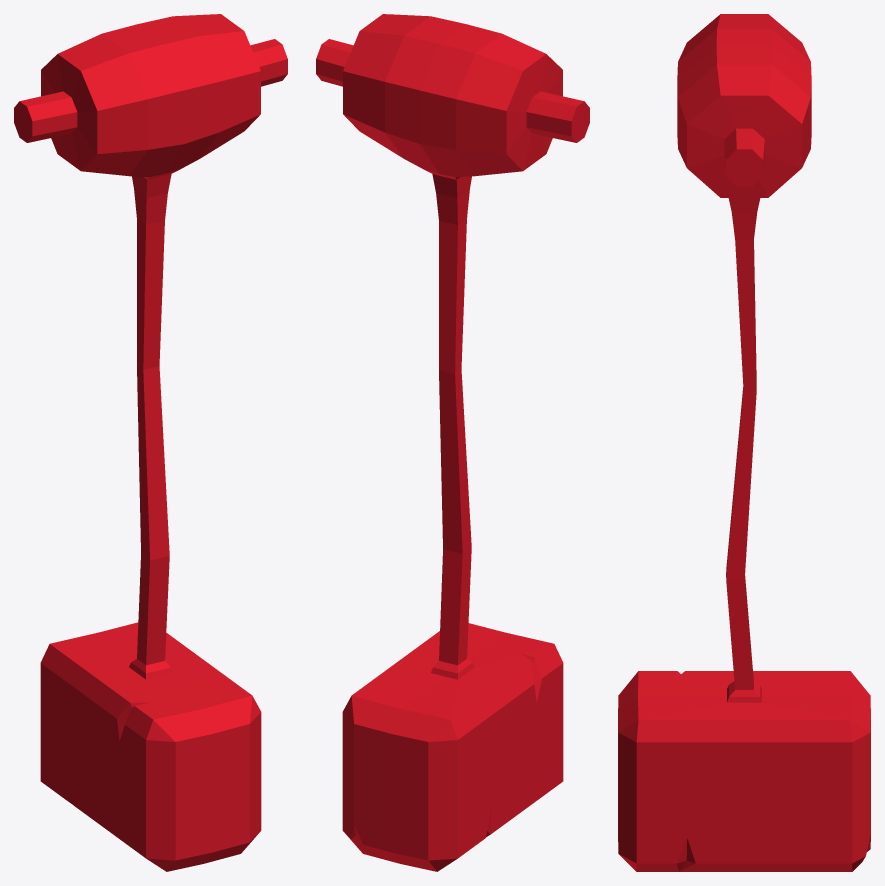
The model's file is hammer_v1_assymetric.fbx.
3 views of the same model, side by side, from view 1: azimuth 30°, elevation 25°; view 2: azimuth 150°, elevation 25°; view 3: azimuth 270°, elevation 25° (orthographic). The views are drawn at different scales.
Parts seen in each view (by area): view 1: Hammer v2 assymetric.001; view 2: Hammer v2 assymetric.001; view 3: Hammer v2 assymetric.001.
Part boxes in pixels (x1,y1,x2,y2): Hammer v2 assymetric.001: (14, 14, 287, 871); Hammer v2 assymetric.001: (316, 14, 589, 871); Hammer v2 assymetric.001: (618, 14, 870, 871).
Size of the model in its own units: 51.01 by 60.78 by 180.
